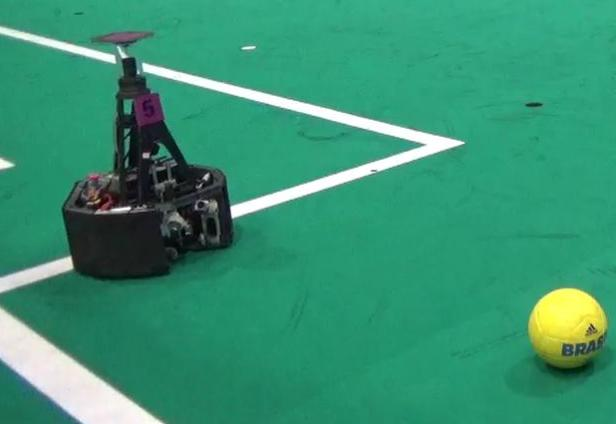robot: (50, 26, 243, 287)
